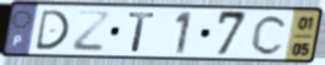1: (174, 10, 195, 57)
7: (215, 9, 249, 59)
C: (249, 13, 291, 57)
D: (33, 9, 72, 52)
T: (127, 11, 159, 54)
Z: (69, 9, 113, 54)
